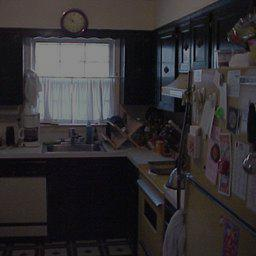Electrodomestico: (183, 66, 253, 253), (0, 154, 45, 237), (137, 167, 172, 255)
Lavaplatos: (38, 124, 102, 153)
